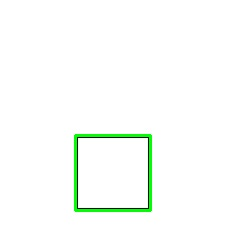line_segment: (74, 134, 152, 212)
